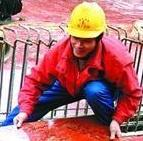boots: (0, 16, 8, 23), (0, 0, 6, 8)
hard-hat: (66, 1, 107, 38)
